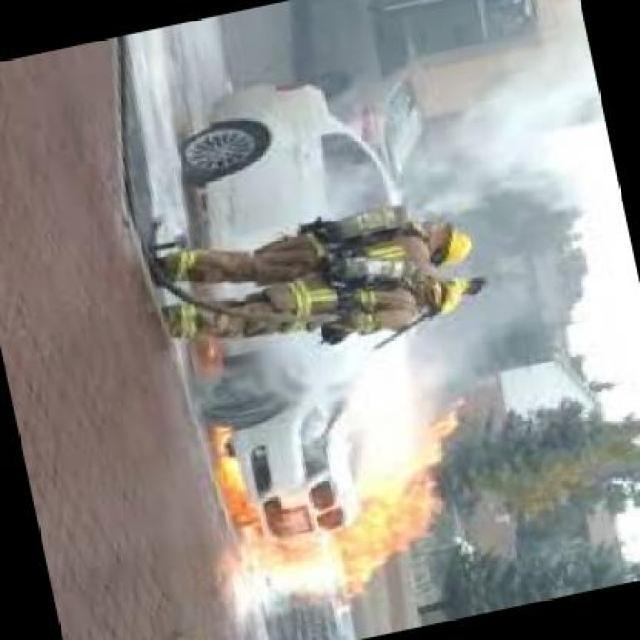Fire: (189, 406, 474, 596)
Smoke: (334, 64, 598, 220), (477, 226, 630, 372), (254, 326, 488, 406)
